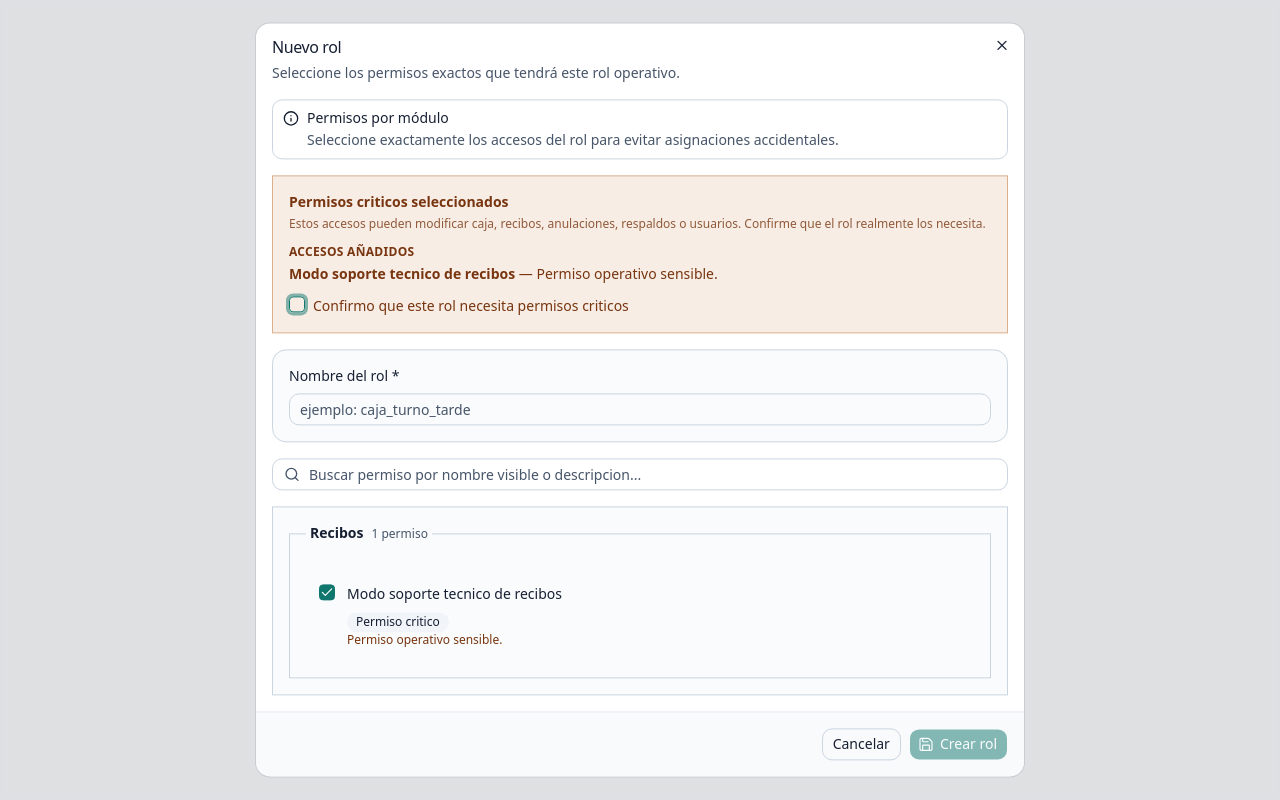
Scenario: RoleFormDialog › requires explicit confirmation before saving a role with critical permissions
expect the button "Crear rol" is disabled: met, box [909,729,1008,761]
Click the checkbox named "confirmo que este rol necesita permisos criticos" below "— Permiso operativo sensible.": (297, 304) [289,296,305,312]
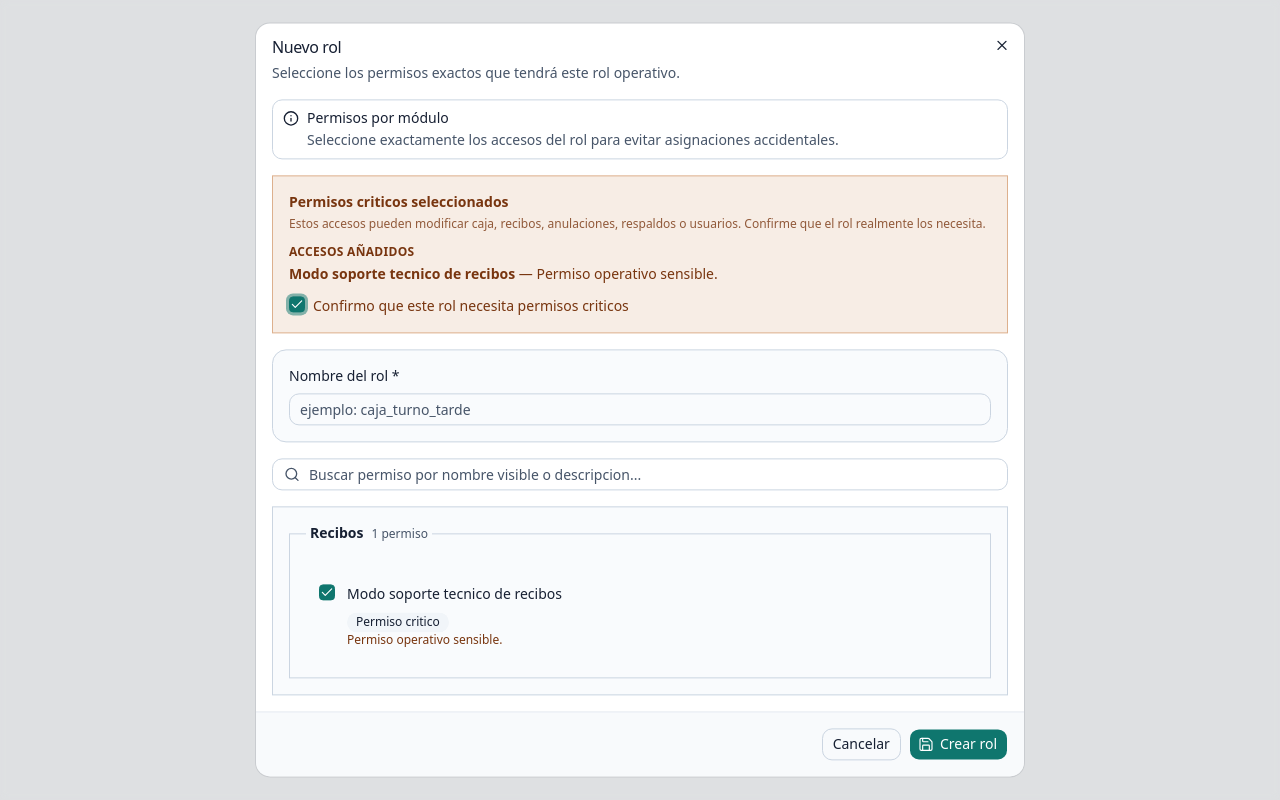
expect the button "Crear rol" is enabled: met, box [909,729,1008,761]
